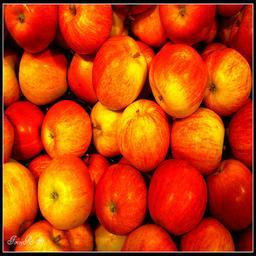apple: (149, 159, 207, 235), (149, 43, 206, 117), (91, 34, 146, 110), (37, 157, 94, 228), (93, 163, 147, 235), (200, 44, 251, 116), (170, 108, 225, 174), (119, 99, 170, 170), (207, 159, 256, 231), (41, 100, 92, 155), (3, 4, 58, 54), (59, 4, 112, 55), (19, 50, 69, 103), (4, 99, 45, 161), (3, 162, 36, 239), (158, 5, 216, 43), (226, 102, 254, 168), (14, 220, 70, 250)
